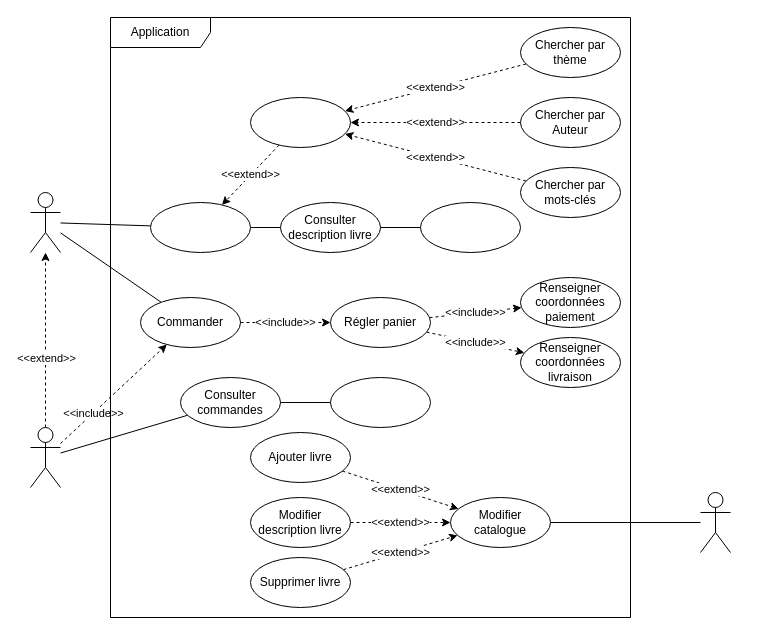
Image size: 772x635. Some labels were removed from this diagram. Here are the shapes that lost their labels. From the top down, the centre of each, then its label:
At point (300, 122): "Effectuer une recherche".
At point (45, 222): "Internaute".
At point (200, 227): "Consulter catalogue".
At point (470, 227): "Ajouter livre au panier".
At point (380, 402): "Modifier commande".
At point (45, 457): "Client".
At point (715, 522): "Administrateur".
